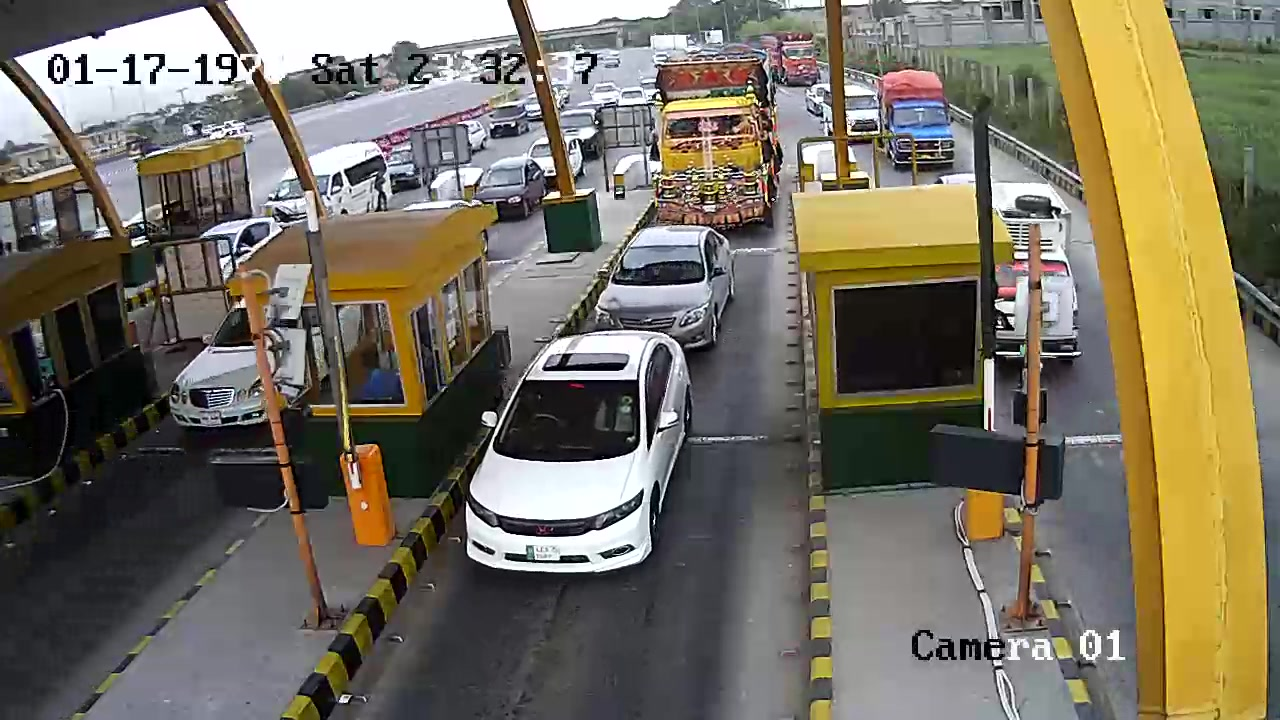F1: (449, 325, 716, 593), (569, 223, 759, 341)
